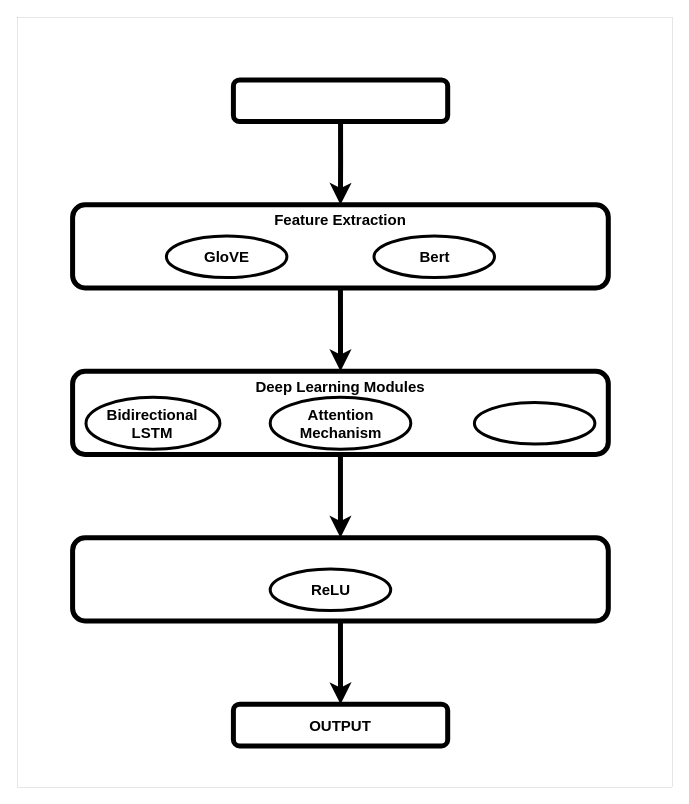
This 689x804 diagram has some shape labels left out. Each missing label, with the box of its shape:
CNN: (472, 400, 596, 445)
Fusion and Classification: (70, 535, 610, 623)
INPUT: (230, 77, 450, 124)
